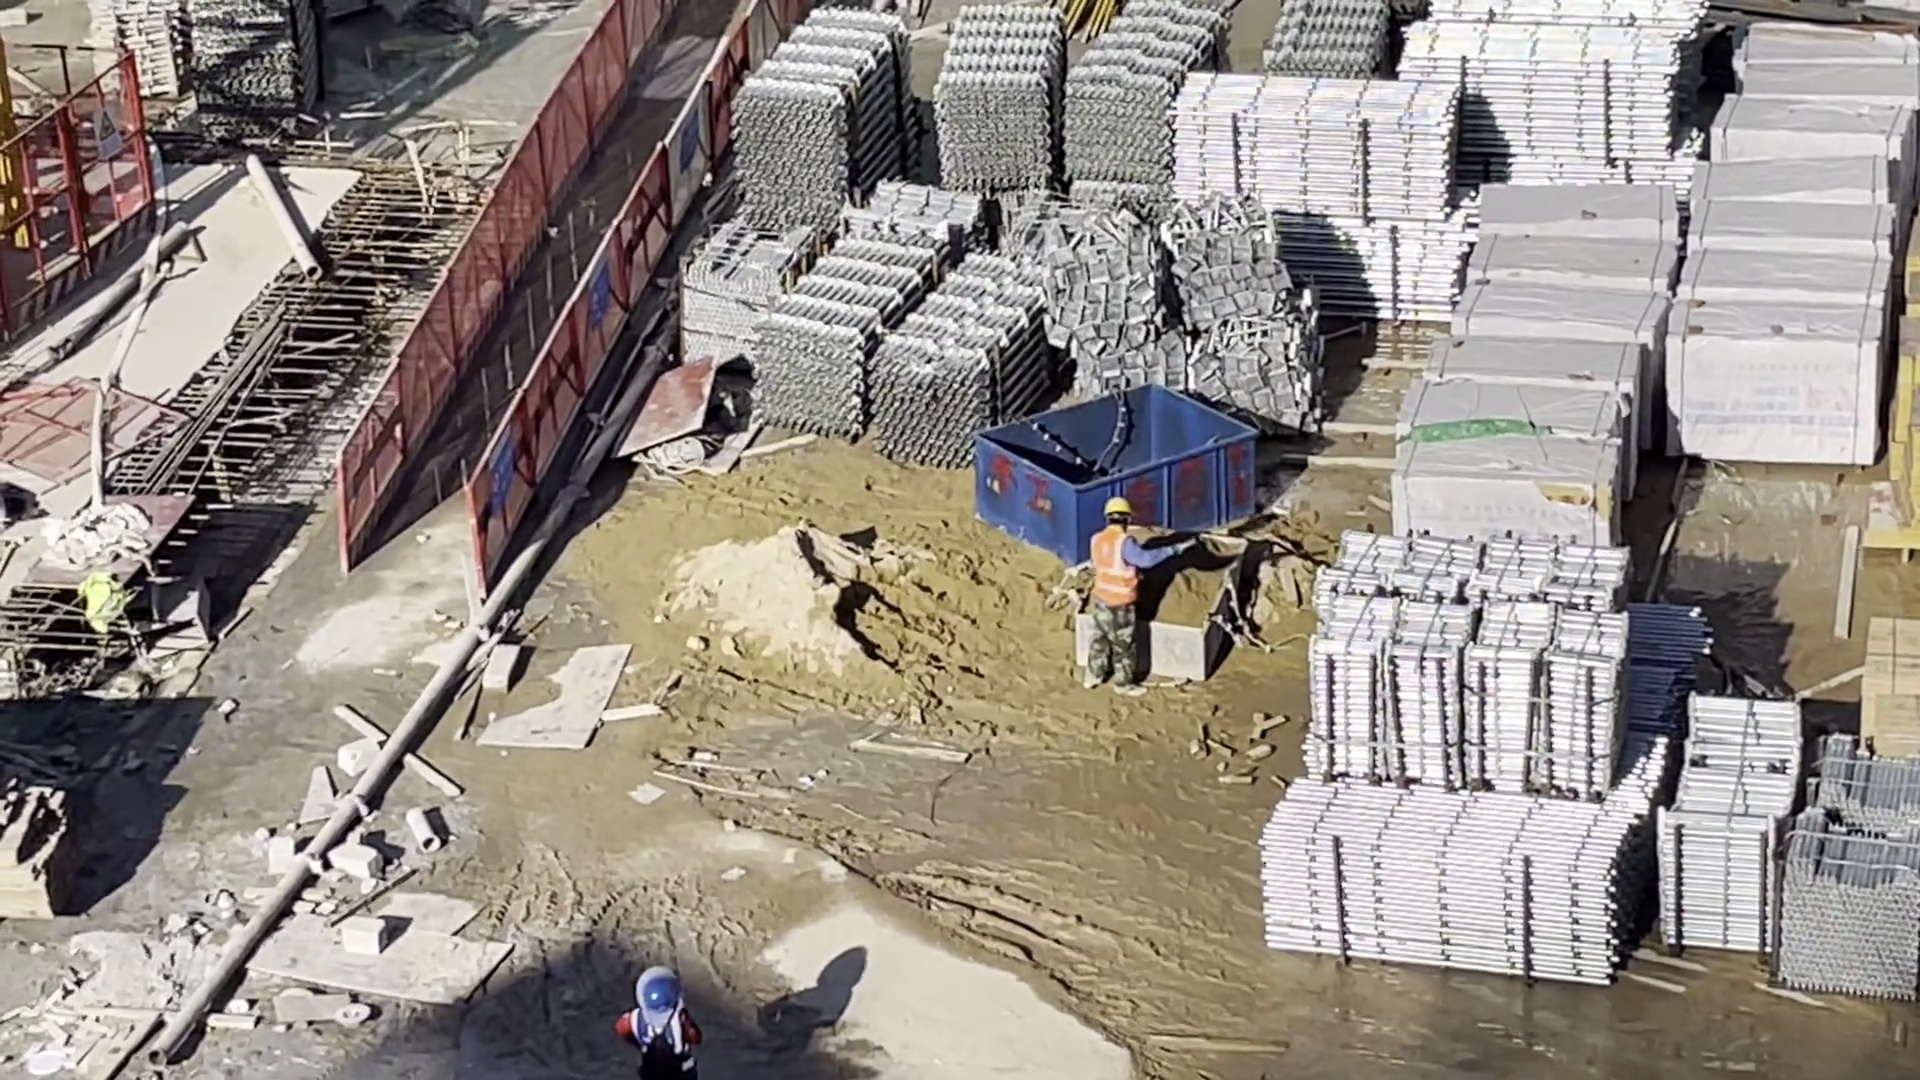board: (1859, 618, 1918, 745)
fence: (346, 1, 765, 581)
helmet: (640, 977, 682, 1015), (1105, 496, 1132, 518)
hopper: (973, 384, 1259, 560), (1140, 535, 1251, 680)
person: (1088, 500, 1152, 695), (616, 973, 701, 1080)
scaffold: (1312, 524, 1625, 791), (1261, 779, 1646, 981), (765, 224, 1056, 465), (1175, 74, 1459, 322), (936, 1, 1216, 192), (1398, 16, 1690, 166), (1766, 738, 1920, 996), (738, 10, 915, 223), (1656, 693, 1789, 947), (193, 1, 323, 127), (1276, 1, 1400, 74), (100, 1, 190, 101)
slogan: (488, 434, 511, 516), (585, 257, 609, 331)
vest: (1092, 531, 1135, 607), (636, 1015, 686, 1068)
